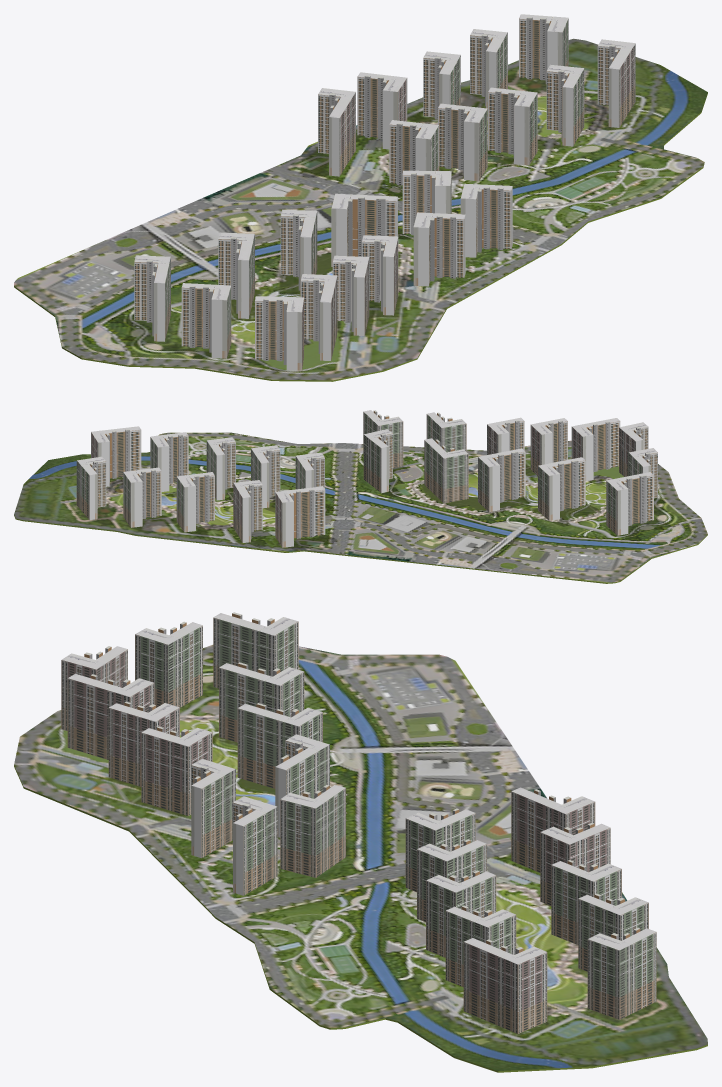
File: ICJ00106.glb
The picture shows the model from 3 angles, top to bottom: view 1: azimuth 30°, elevation 25°; view 2: azimuth 150°, elevation 25°; view 3: azimuth 270°, elevation 25°; orthographic projection. The views are drawn at different scales.
Parts seen in each view (by area): view 1: MainBuilding; view 2: MainBuilding; view 3: MainBuilding.
Part boxes in pixels (x1,y1,x2,y2): MainBuilding: (14, 14, 707, 381); MainBuilding: (14, 410, 707, 583); MainBuilding: (14, 612, 707, 1072).
Size of the model in its own units: 31133 by 2490 by 21139.
Materials: 1 (1 with a texture image).
